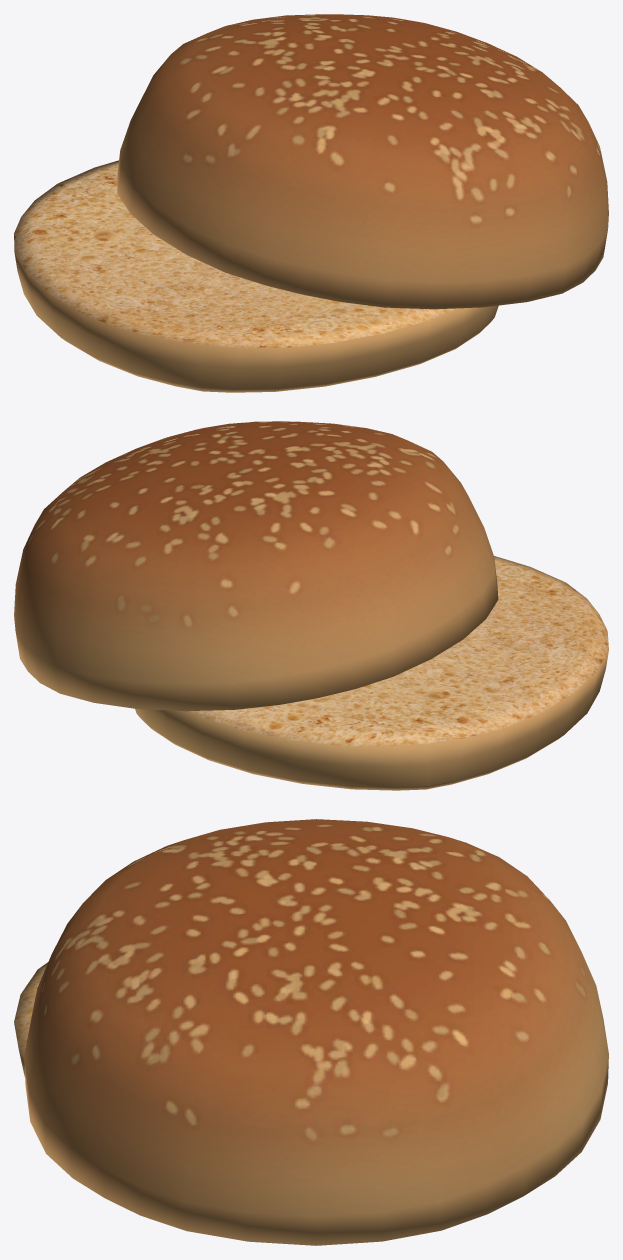
File: Bun_Bun_Cut(Legacy).fbx
3 renders of one model, top to bottom at view 1: azimuth 30°, elevation 25°; view 2: azimuth 150°, elevation 25°; view 3: azimuth 270°, elevation 25°, orthographic. The views are drawn at different scales.
Visible parts, largest first — view 1: Bun_Bun_Cut(Legacy); view 2: Bun_Bun_Cut(Legacy); view 3: Bun_Bun_Cut(Legacy).
Part boxes in pixels (box(x1,y1,x2,y2)): Bun_Bun_Cut(Legacy): box(14, 14, 608, 392); Bun_Bun_Cut(Legacy): box(14, 421, 608, 790); Bun_Bun_Cut(Legacy): box(14, 819, 608, 1245).
Size of the model in its own units: 0.7781 by 0.3047 by 0.6353.
Materials: 1 (1 with a texture image).
